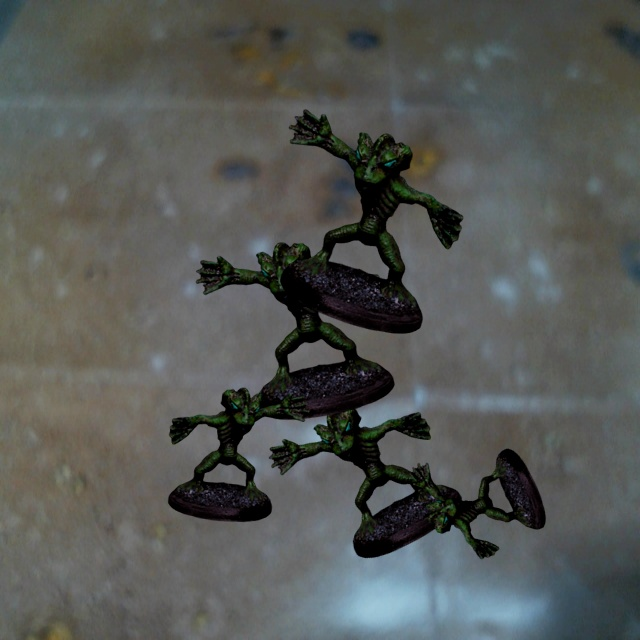pieza_juego: (280, 109, 462, 333), (196, 242, 394, 419), (269, 406, 461, 557), (168, 387, 309, 521), (409, 449, 545, 558)
